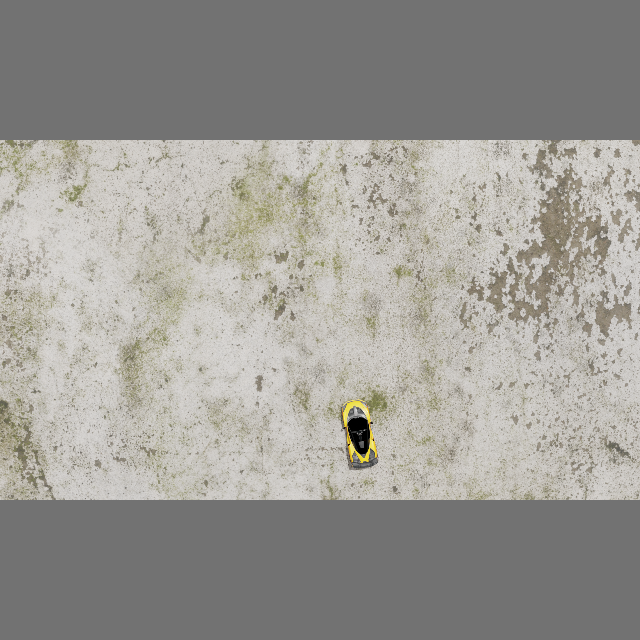car: (338, 397, 381, 471)
